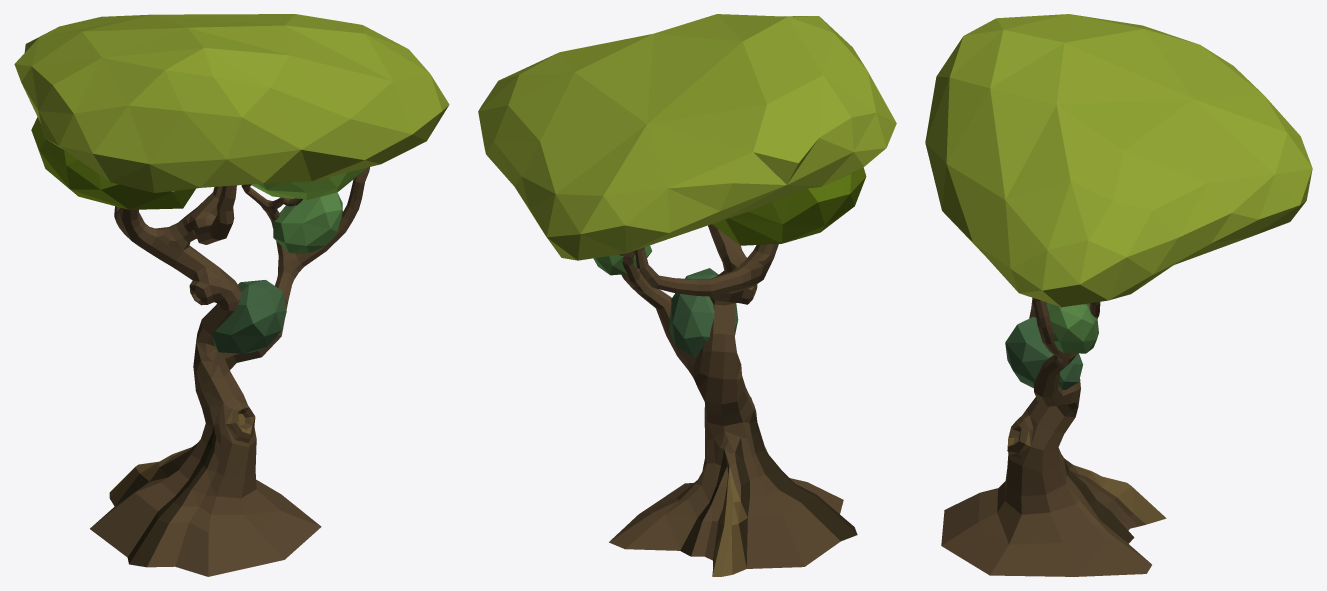
File: EA01_Env_Tree_01c.fbx
The picture shows the model from 3 angles, left to right: view 1: azimuth 30°, elevation 25°; view 2: azimuth 150°, elevation 25°; view 3: azimuth 270°, elevation 25°; orthographic projection.
Parts seen in each view (by area): view 1: EA01_Env_Tree_01c_LOD0; view 2: EA01_Env_Tree_01c_LOD0; view 3: EA01_Env_Tree_01c_LOD0.
Part boxes in pixels (left/top/right/bottom): EA01_Env_Tree_01c_LOD0: left=14, top=14, right=449, bottom=576; EA01_Env_Tree_01c_LOD0: left=478, top=14, right=896, bottom=576; EA01_Env_Tree_01c_LOD0: left=925, top=14, right=1312, bottom=576.
Size of what is drawn, in the model's own units: 8.44 by 10.35 by 7.35.
